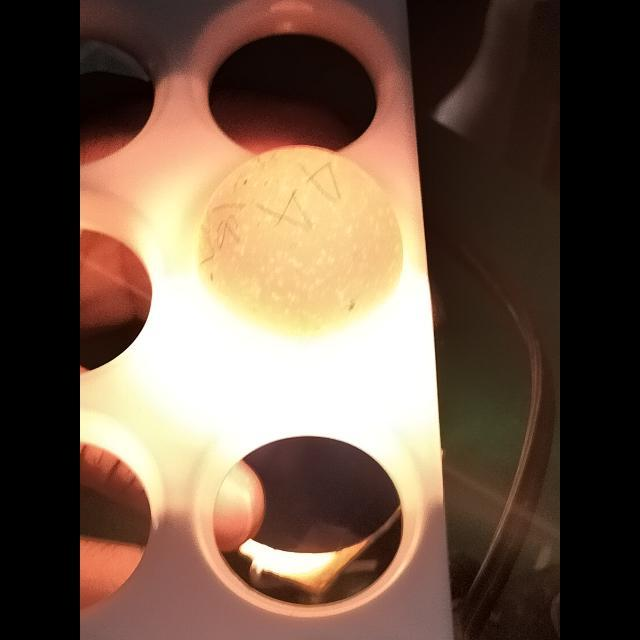Infertile: (203, 144, 404, 336)
